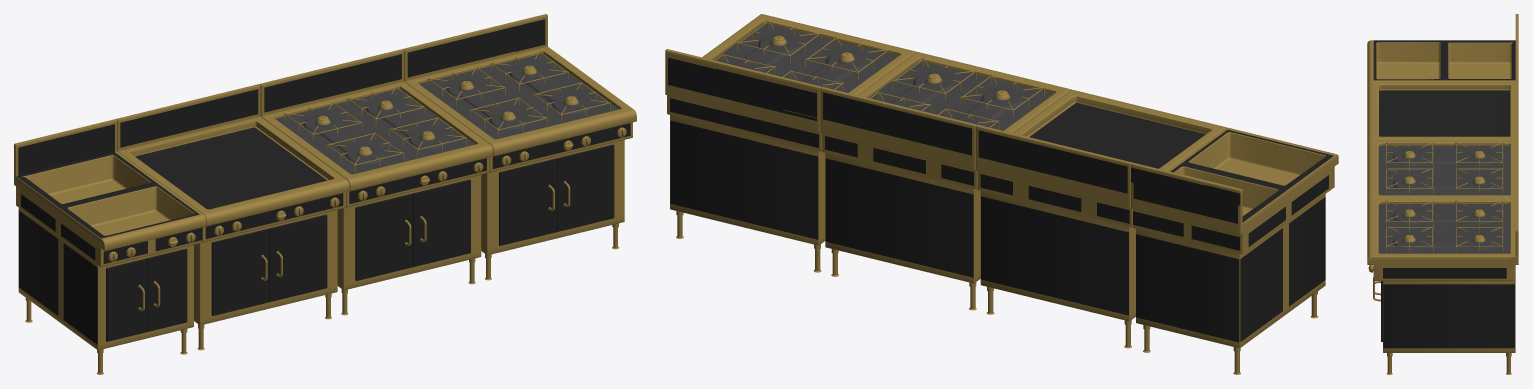
Rendered from stove.fbx.
3 views of the same model, side by side, from view 1: azimuth 30°, elevation 25°; view 2: azimuth 150°, elevation 25°; view 3: azimuth 270°, elevation 25° (orthographic). The views are drawn at different scales.
Parts seen in each view (by area): view 1: stove; view 2: stove; view 3: stove.
Boxes of the visible parts, x1=… form: stove: x1=14, y1=14, x2=636, y2=374; stove: x1=665, y1=14, x2=1338, y2=374; stove: x1=1367, y1=14, x2=1518, y2=374.
Size of the model in its own units: 371 by 117 by 110.
